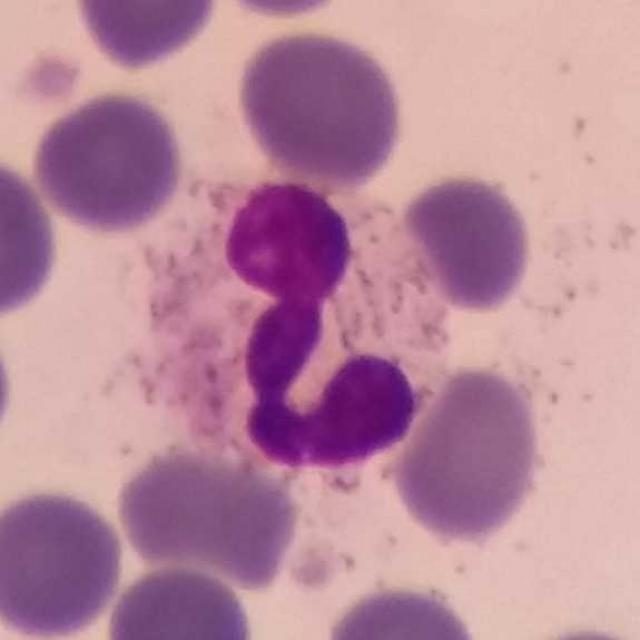Neutrophil: (136, 165, 451, 488)
Platelets: (19, 45, 90, 120)
RBC: (232, 23, 409, 190), (110, 438, 305, 588), (388, 362, 546, 544), (28, 86, 189, 238), (396, 168, 536, 315), (0, 482, 129, 640), (102, 561, 260, 640), (68, 0, 225, 73), (0, 149, 65, 324), (318, 579, 486, 640), (203, 0, 359, 22), (0, 312, 18, 459), (539, 624, 640, 640)
